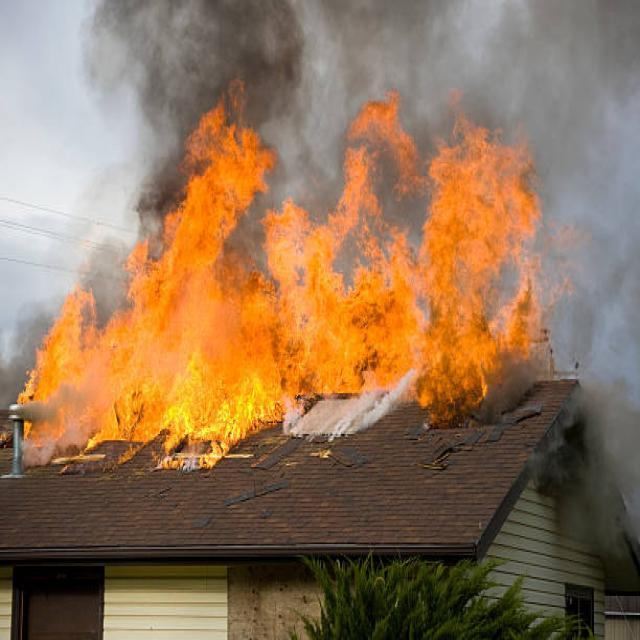Fire: (33, 248, 542, 408), (422, 130, 540, 246), (177, 108, 266, 246), (336, 99, 418, 244), (124, 412, 280, 472), (268, 200, 332, 243)
Smoke: (548, 4, 640, 538), (82, 0, 544, 94)
